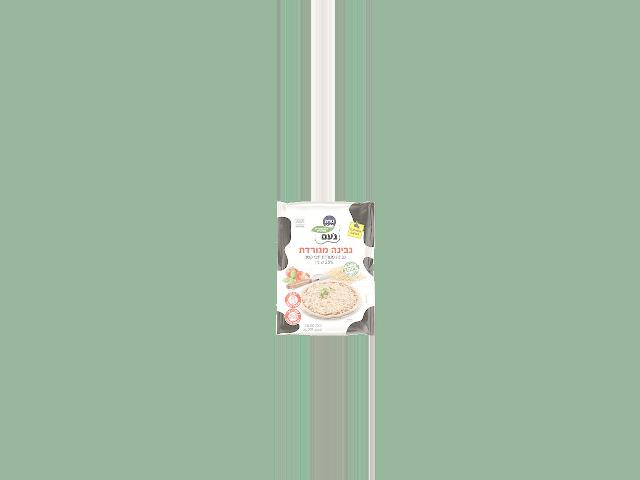cheese: (259, 211, 377, 329)
